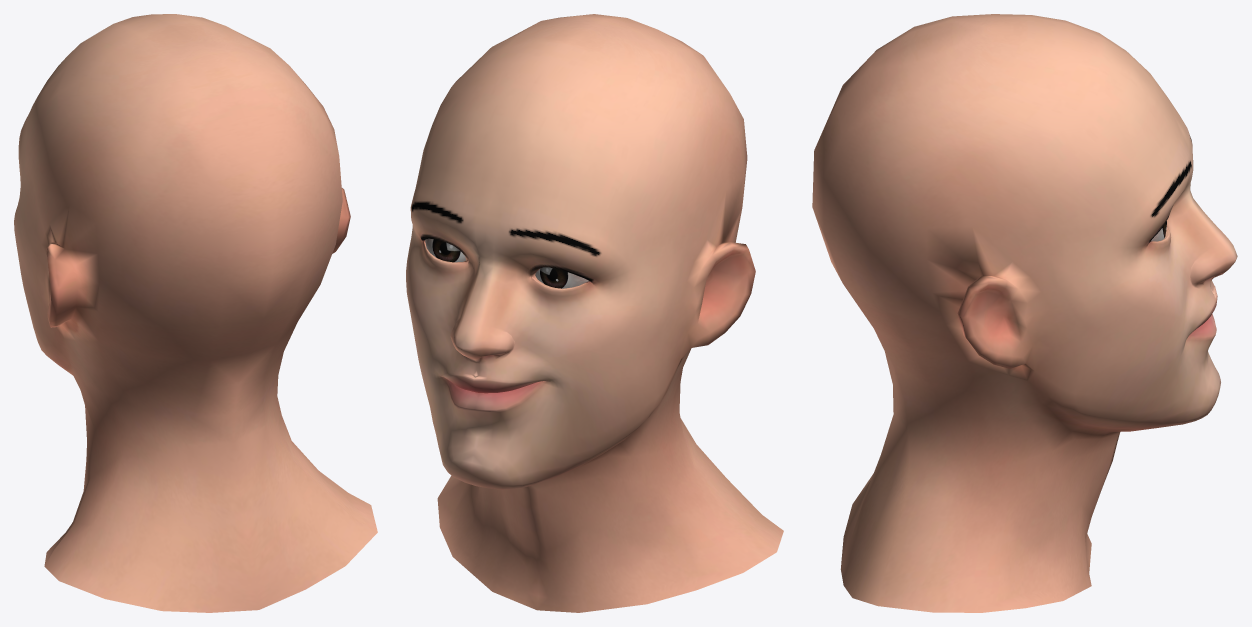
3 views of the same model, side by side, from view 1: azimuth 30°, elevation 25°; view 2: azimuth 150°, elevation 25°; view 3: azimuth 270°, elevation 25° (orthographic). The views are drawn at different scales.
Visible parts, largest first — view 1: Wolf3D_Avatar.002; view 2: Wolf3D_Avatar.002; view 3: Wolf3D_Avatar.002.
Part boxes in pixels (<box>): Wolf3D_Avatar.002: <box>14,14,377,612</box>; Wolf3D_Avatar.002: <box>406,14,783,612</box>; Wolf3D_Avatar.002: <box>812,14,1237,612</box>.
Size of the model in its own units: 19.19 by 30.76 by 21.71.
